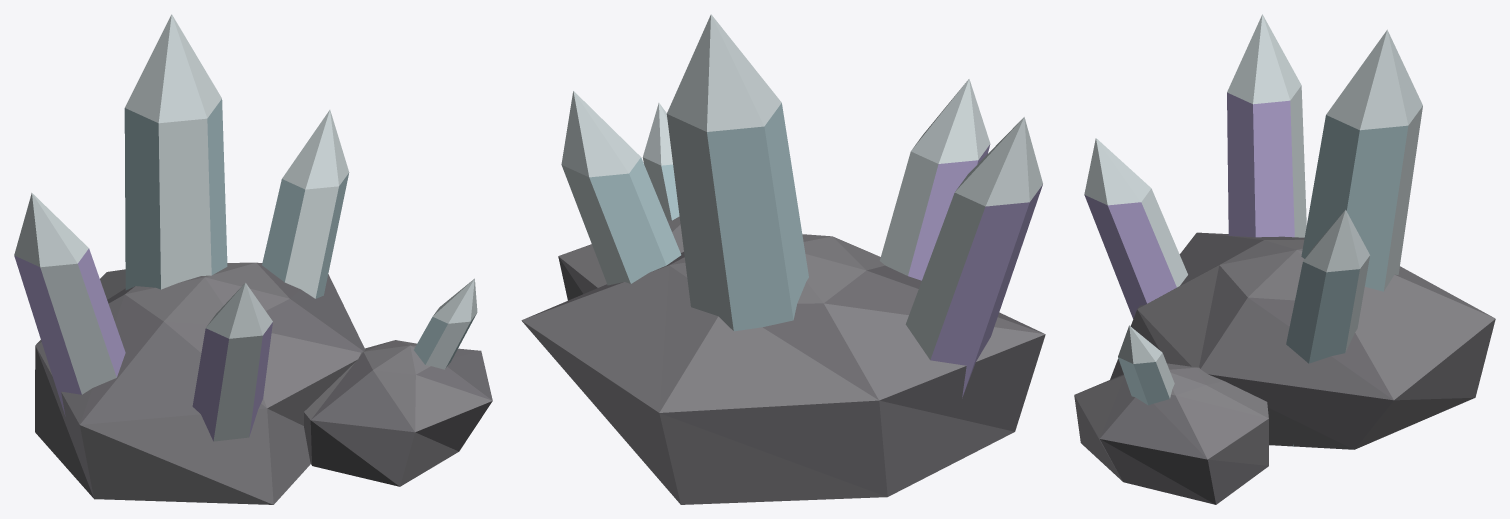
Rendered from node_crystal.glb.
3 views of the same model, side by side, from view 1: azimuth 30°, elevation 25°; view 2: azimuth 150°, elevation 25°; view 3: azimuth 270°, elevation 25° (orthographic). The views are drawn at different scales.
Visible parts, largest first — view 1: prop.node.crystal; view 2: prop.node.crystal; view 3: prop.node.crystal.
Part boxes in pixels (<box>): prop.node.crystal: <box>14,14,492,504</box>; prop.node.crystal: <box>521,14,1045,504</box>; prop.node.crystal: <box>1074,14,1495,504</box>.
Bounding box in the file's own units: 1.2 × 1 × 1.01.
